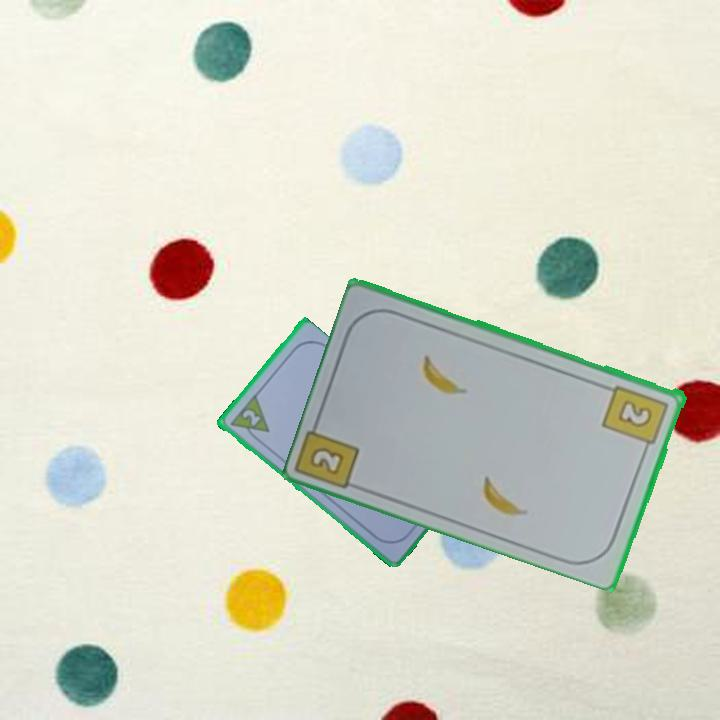2b: (600, 381, 672, 455), (306, 443, 348, 478)
2p: (225, 392, 272, 445)
